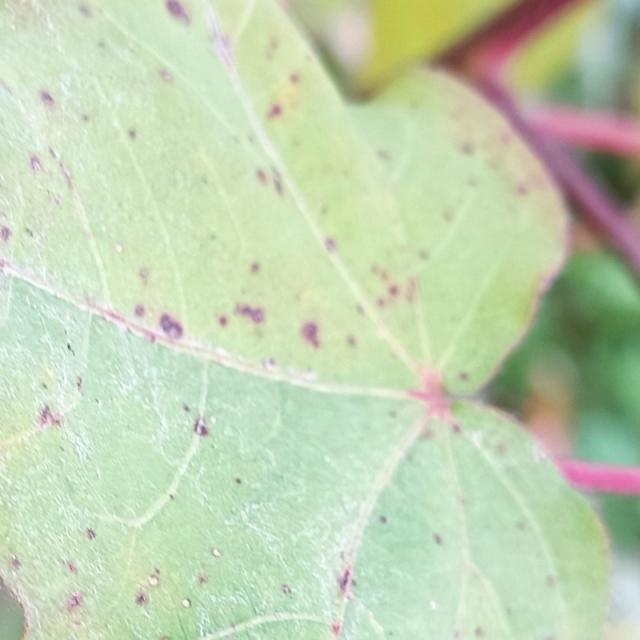Bacterial_Blight: (30, 135, 79, 204), (201, 6, 243, 73), (332, 565, 358, 626), (153, 303, 188, 347), (133, 569, 165, 611), (269, 75, 301, 116), (234, 302, 267, 326), (36, 403, 64, 429), (300, 321, 322, 348), (165, 0, 190, 22), (404, 277, 418, 303), (193, 416, 211, 436), (271, 171, 285, 196), (66, 593, 84, 611), (338, 570, 352, 592), (267, 102, 283, 119), (29, 155, 43, 174), (40, 90, 55, 107), (255, 168, 268, 186), (159, 68, 174, 83), (135, 591, 149, 606), (78, 4, 93, 18), (324, 236, 337, 252), (263, 357, 277, 370), (1, 226, 11, 243), (460, 142, 473, 155), (516, 183, 529, 196), (138, 267, 150, 281), (66, 560, 78, 574), (450, 421, 462, 434), (378, 149, 391, 161), (149, 568, 161, 581), (134, 304, 145, 318), (442, 210, 454, 222), (86, 527, 97, 540), (11, 557, 22, 570), (354, 303, 365, 316), (250, 261, 261, 273), (281, 583, 292, 595), (388, 285, 399, 297), (346, 335, 357, 347), (198, 573, 209, 585), (418, 249, 429, 261), (495, 443, 506, 455), (148, 575, 159, 587), (433, 533, 443, 546), (546, 575, 556, 588), (331, 622, 341, 635), (290, 73, 301, 84), (515, 520, 526, 531), (218, 315, 228, 327), (127, 128, 137, 140), (475, 625, 485, 637), (66, 341, 75, 354), (458, 371, 469, 381), (24, 227, 34, 238), (212, 547, 222, 558), (182, 402, 191, 414), (181, 598, 191, 608), (388, 409, 398, 419), (76, 376, 83, 390), (81, 113, 90, 123), (430, 600, 439, 610), (378, 515, 387, 524), (115, 244, 123, 254), (209, 415, 217, 425), (234, 477, 243, 485), (168, 493, 175, 501), (543, 636, 555, 640), (159, 636, 170, 640)
Cotton: (0, 0, 609, 639)
